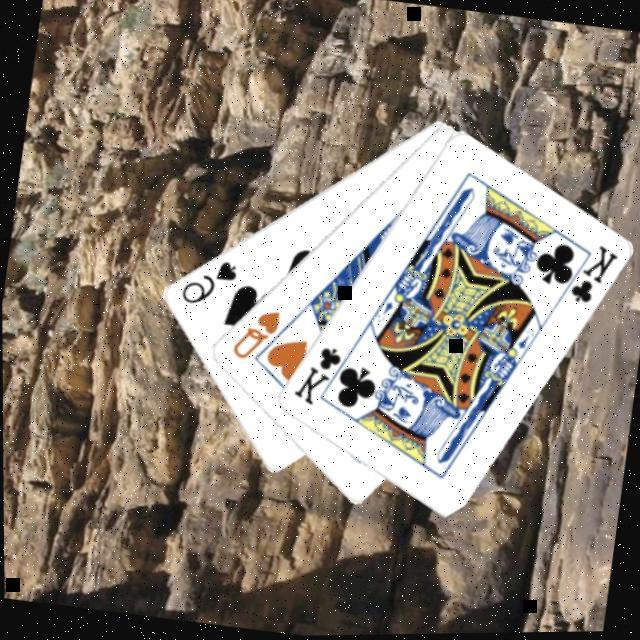9S: (173, 250, 239, 313)
KC: (285, 338, 353, 413), (551, 237, 619, 312)
QH: (224, 302, 282, 367)
